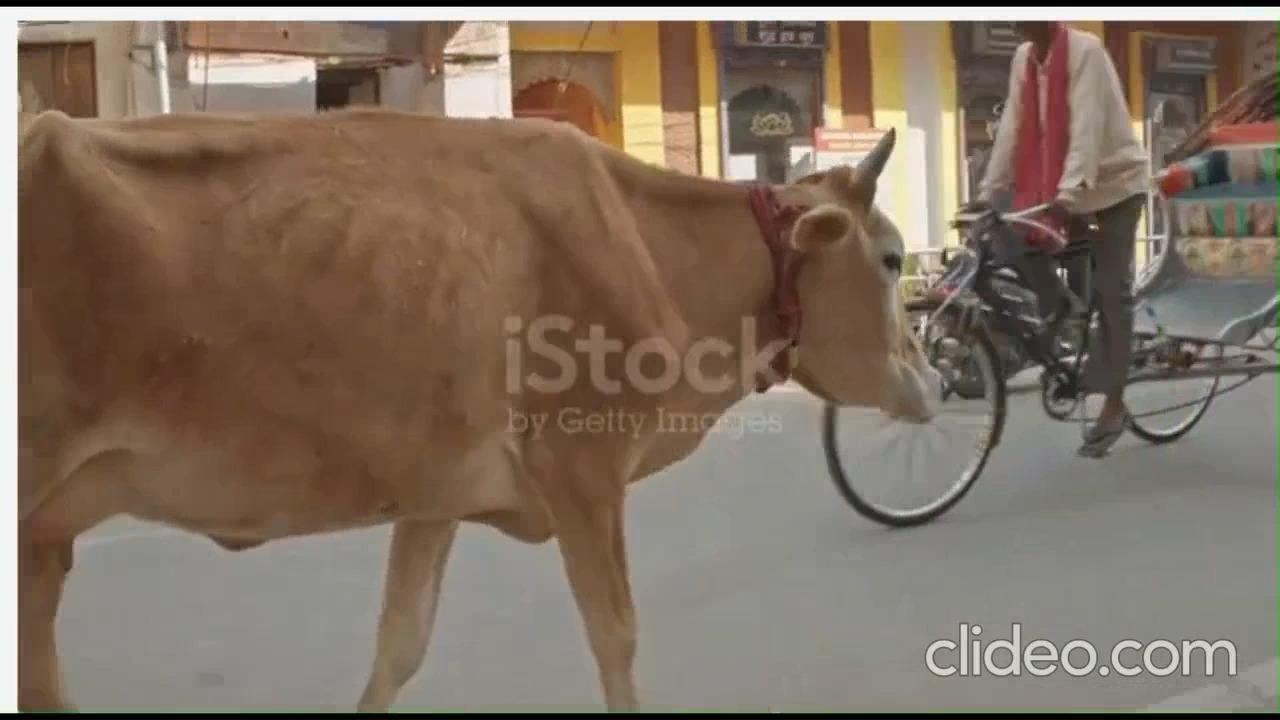Cow: (16, 58, 964, 708)
